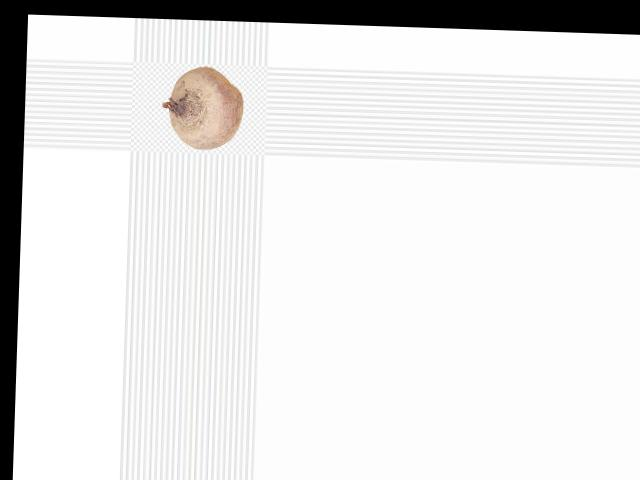beet: (160, 65, 244, 150)
